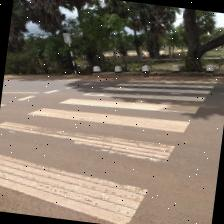crossing: (0, 54, 216, 224), (0, 119, 176, 162), (0, 174, 135, 224), (27, 101, 190, 134), (58, 88, 200, 120), (82, 82, 206, 110), (100, 76, 210, 102), (113, 72, 214, 97), (16, 92, 35, 102)
